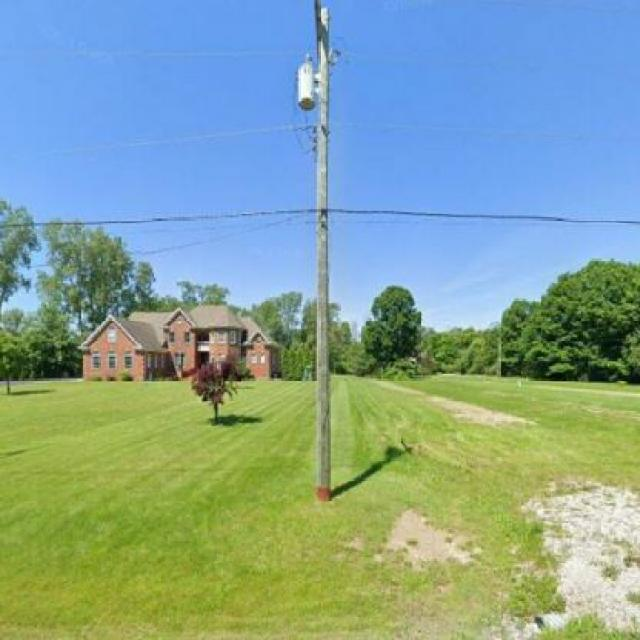pole: (276, 0, 377, 495)
